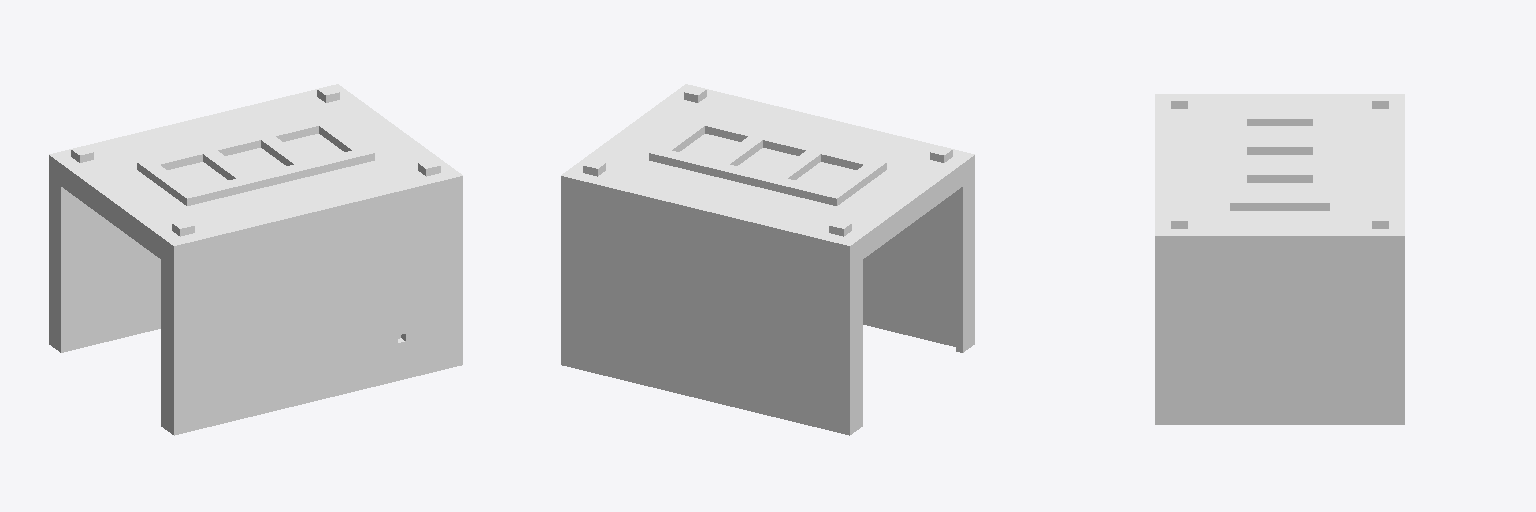
Rendered from maschine.obj.
3 views of the same model, side by side, from view 1: azimuth 30°, elevation 25°; view 2: azimuth 150°, elevation 25°; view 3: azimuth 270°, elevation 25° (orthographic).
Visible parts, largest first — view 1: object 1; view 2: object 1; view 3: object 1.
Boxes of the visible parts, box(x1,y1,x2,y2) form: object 1: box(49, 84, 462, 435); object 1: box(561, 84, 974, 435); object 1: box(1155, 94, 1404, 424).
Size of the model in its own units: 4 by 2.6 by 3.